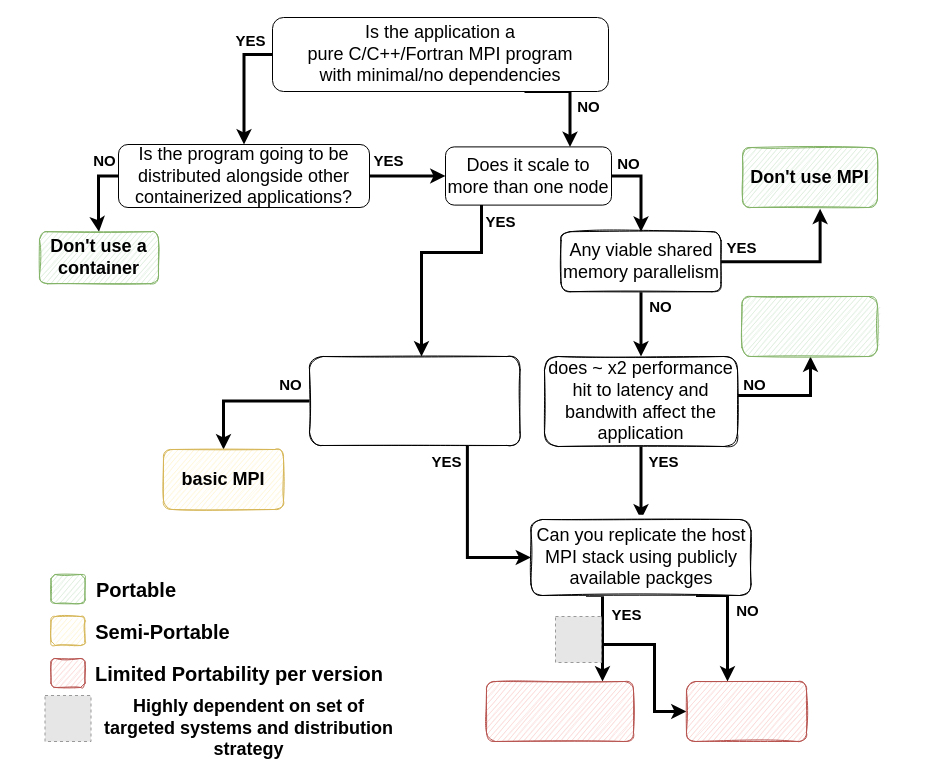
The diagram is 930 pixels wide and 778 high, and some of its shapes have lost their labels. Grey dashed boxes stand in for pictures. The shapes that lost their labels are listed below. From the top down, each one's centre as x and y in pixels, then its label:
At point 809,326: "Node local MPI".
At point 414,401: "does ~ x10 performance hit to latency and bandwith affect the application".
At point 560,711: "Optimized MPI installation".
At point 746,711: "Hybrid container".
